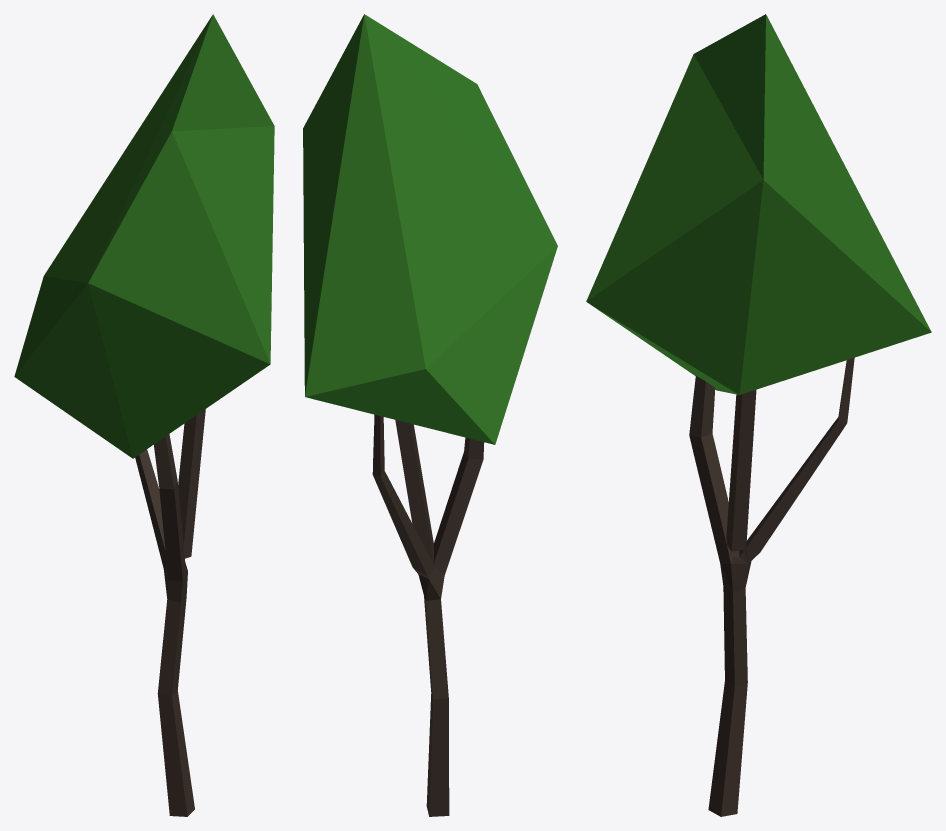
3 views of the same model, side by side, from view 1: azimuth 30°, elevation 25°; view 2: azimuth 150°, elevation 25°; view 3: azimuth 270°, elevation 25° (orthographic). The views are drawn at different scales.
Parts seen in each view (by area): view 1: Icosphere.001, Vert; view 2: Icosphere.001, Vert; view 3: Icosphere.001, Vert.
Boxes of the visible parts, left/top/right/bottom form: Icosphere.001: left=14, top=14, right=274, bottom=458; Vert: left=135, top=409, right=205, bottom=816; Icosphere.001: left=303, top=14, right=557, bottom=444; Vert: left=372, top=414, right=484, bottom=816; Icosphere.001: left=586, top=14, right=931, bottom=394; Vert: left=689, top=357, right=854, bottom=816.
Size of the model in its own units: 492 by 1630 by 619.
